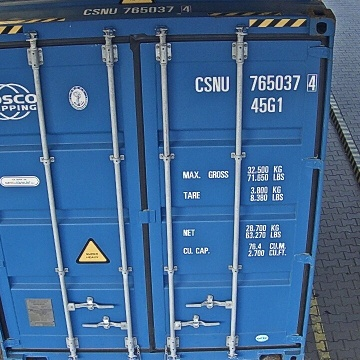serial_id: (195, 74, 317, 91)
